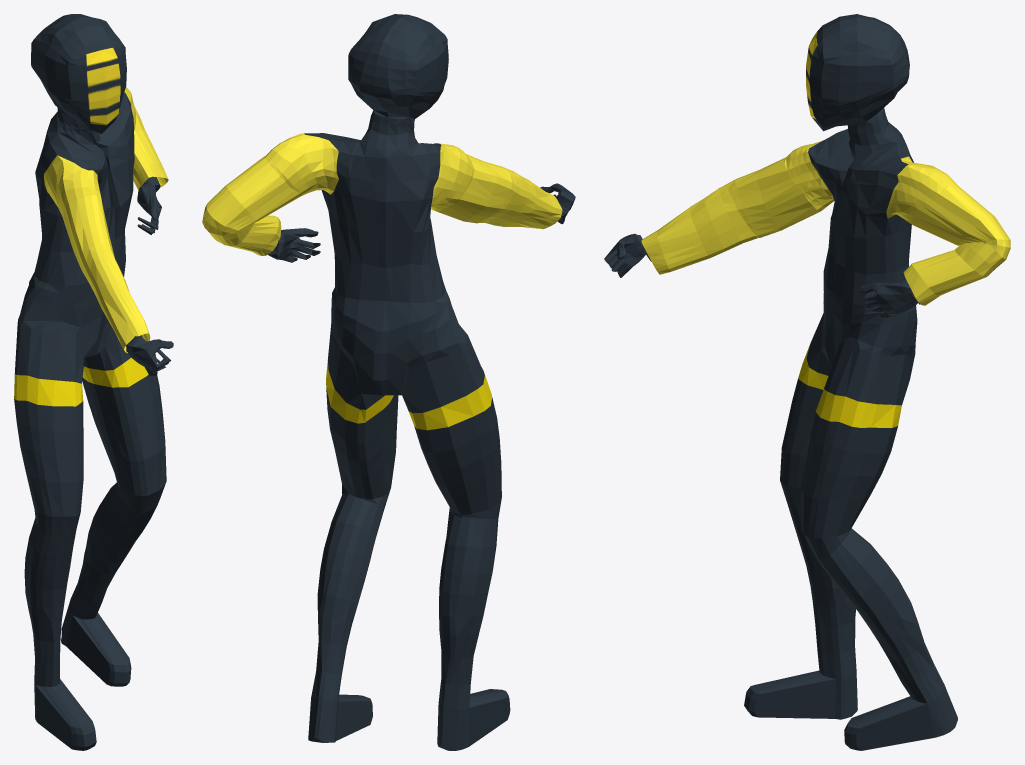
Rendered from Sentry_WF_000011.obj.
The picture shows the model from 3 angles, left to right: view 1: azimuth 30°, elevation 25°; view 2: azimuth 150°, elevation 25°; view 3: azimuth 270°, elevation 25°; orthographic projection. The views are drawn at different scales.
Parts seen in each view (by area): view 1: Cube; view 2: Cube; view 3: Cube.
Boxes of the visible parts, <box> form: Cube: <box>14,14,173,750</box>; Cube: <box>202,14,575,750</box>; Cube: <box>604,14,1010,750</box>.
Bounding box in the file's own units: 1.16 × 3.86 × 1.98.
